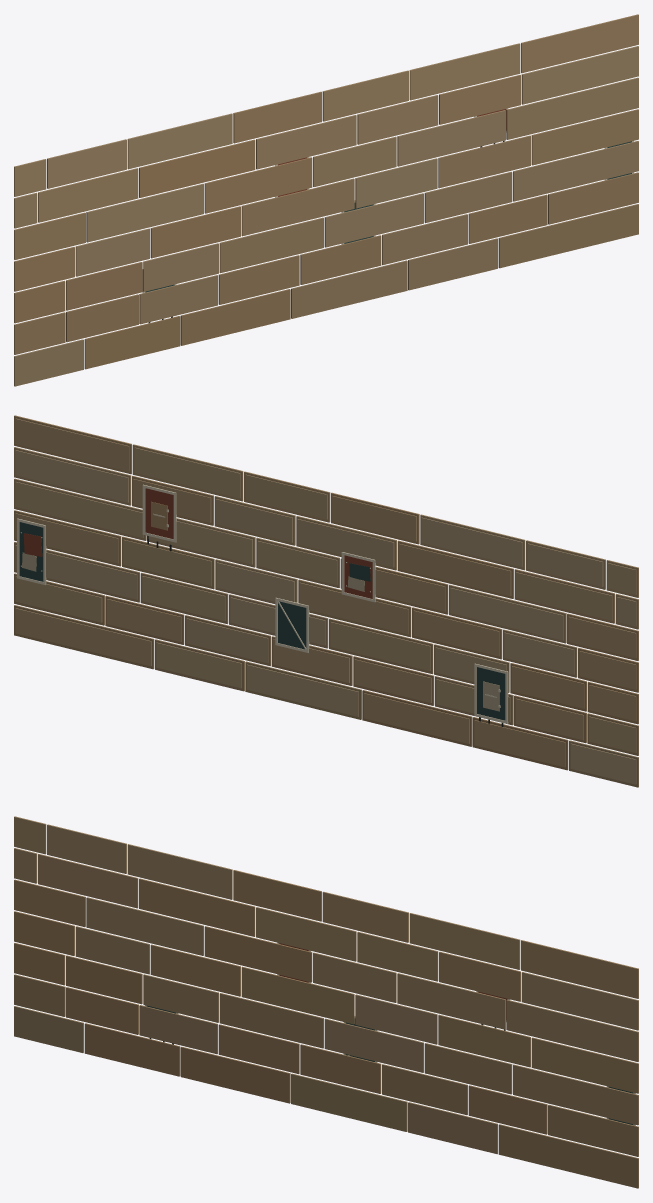
Rendered from dam.glb.
The picture shows the model from 3 angles, top to bottom: view 1: azimuth 30°, elevation 25°; view 2: azimuth 150°, elevation 25°; view 3: azimuth 330°, elevation 25°; orthographic projection.
Parts seen in each view (by area): view 1: DamFacade; view 2: DamFacade; view 3: DamFacade.
Boxes of the visible parts, x1=… form: DamFacade: x1=14, y1=14, x2=638, y2=386; DamFacade: x1=14, y1=415, x2=638, y2=787; DamFacade: x1=14, y1=816, x2=638, y2=1188.
Size of the model in its own units: 263 by 88.5 by 1.25.
